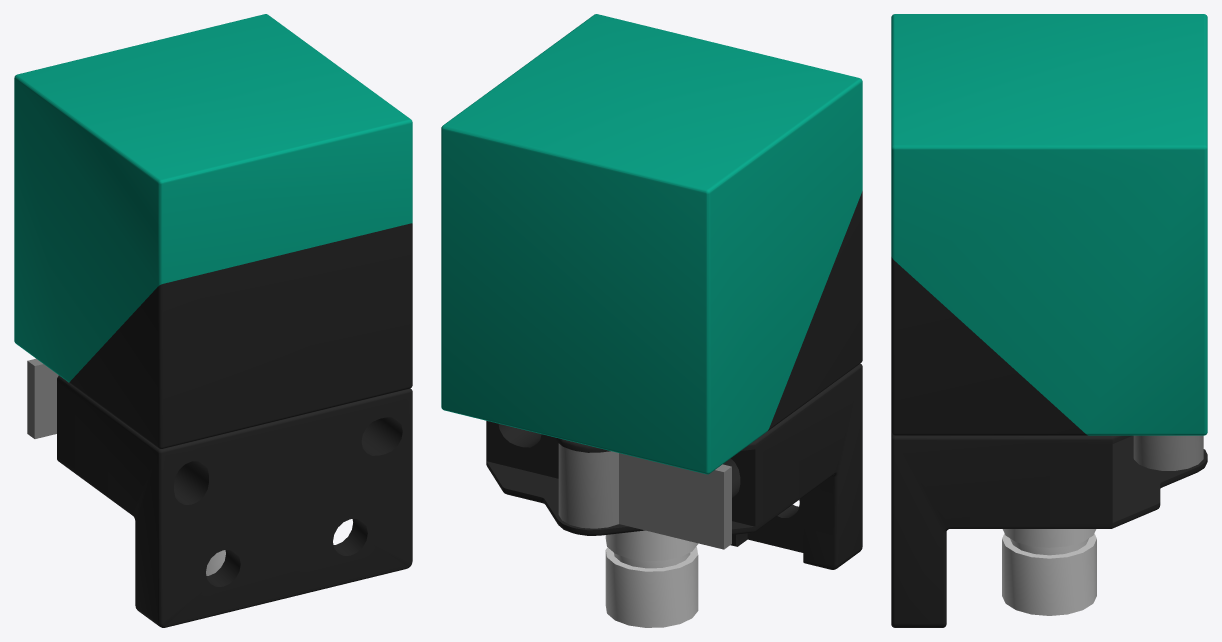
File: NRB20.gltf
3 views of the same model, side by side, from view 1: azimuth 30°, elevation 25°; view 2: azimuth 150°, elevation 25°; view 3: azimuth 270°, elevation 25° (orthographic). The views are drawn at different scales.
Parts seen in each view (by area): view 1: _Inductive_sensor10004202_0, _Inductive_sensor10004204_0, _Inductive_sensor10004203_0; view 2: _Inductive_sensor10004202_0, _Inductive_sensor10004204_0, _Inductive_sensor10004203_0; view 3: _Inductive_sensor10004202_0, _Inductive_sensor10004204_0, _Inductive_sensor10004203_0.
Part boxes in pixels (x1,y1,x2,y2): _Inductive_sensor10004202_0: (14,14,412,382); _Inductive_sensor10004204_0: (27,358,412,627); _Inductive_sensor10004203_0: (69,223,412,575); _Inductive_sensor10004202_0: (441,14,862,474); _Inductive_sensor10004204_0: (486,363,862,569); _Inductive_sensor10004203_0: (605,191,862,627); _Inductive_sensor10004202_0: (891,14,1207,435); _Inductive_sensor10004204_0: (891,433,1207,627); _Inductive_sensor10004203_0: (891,257,1096,615).
Bounding box in the file's own units: 40 × 72 × 40.
